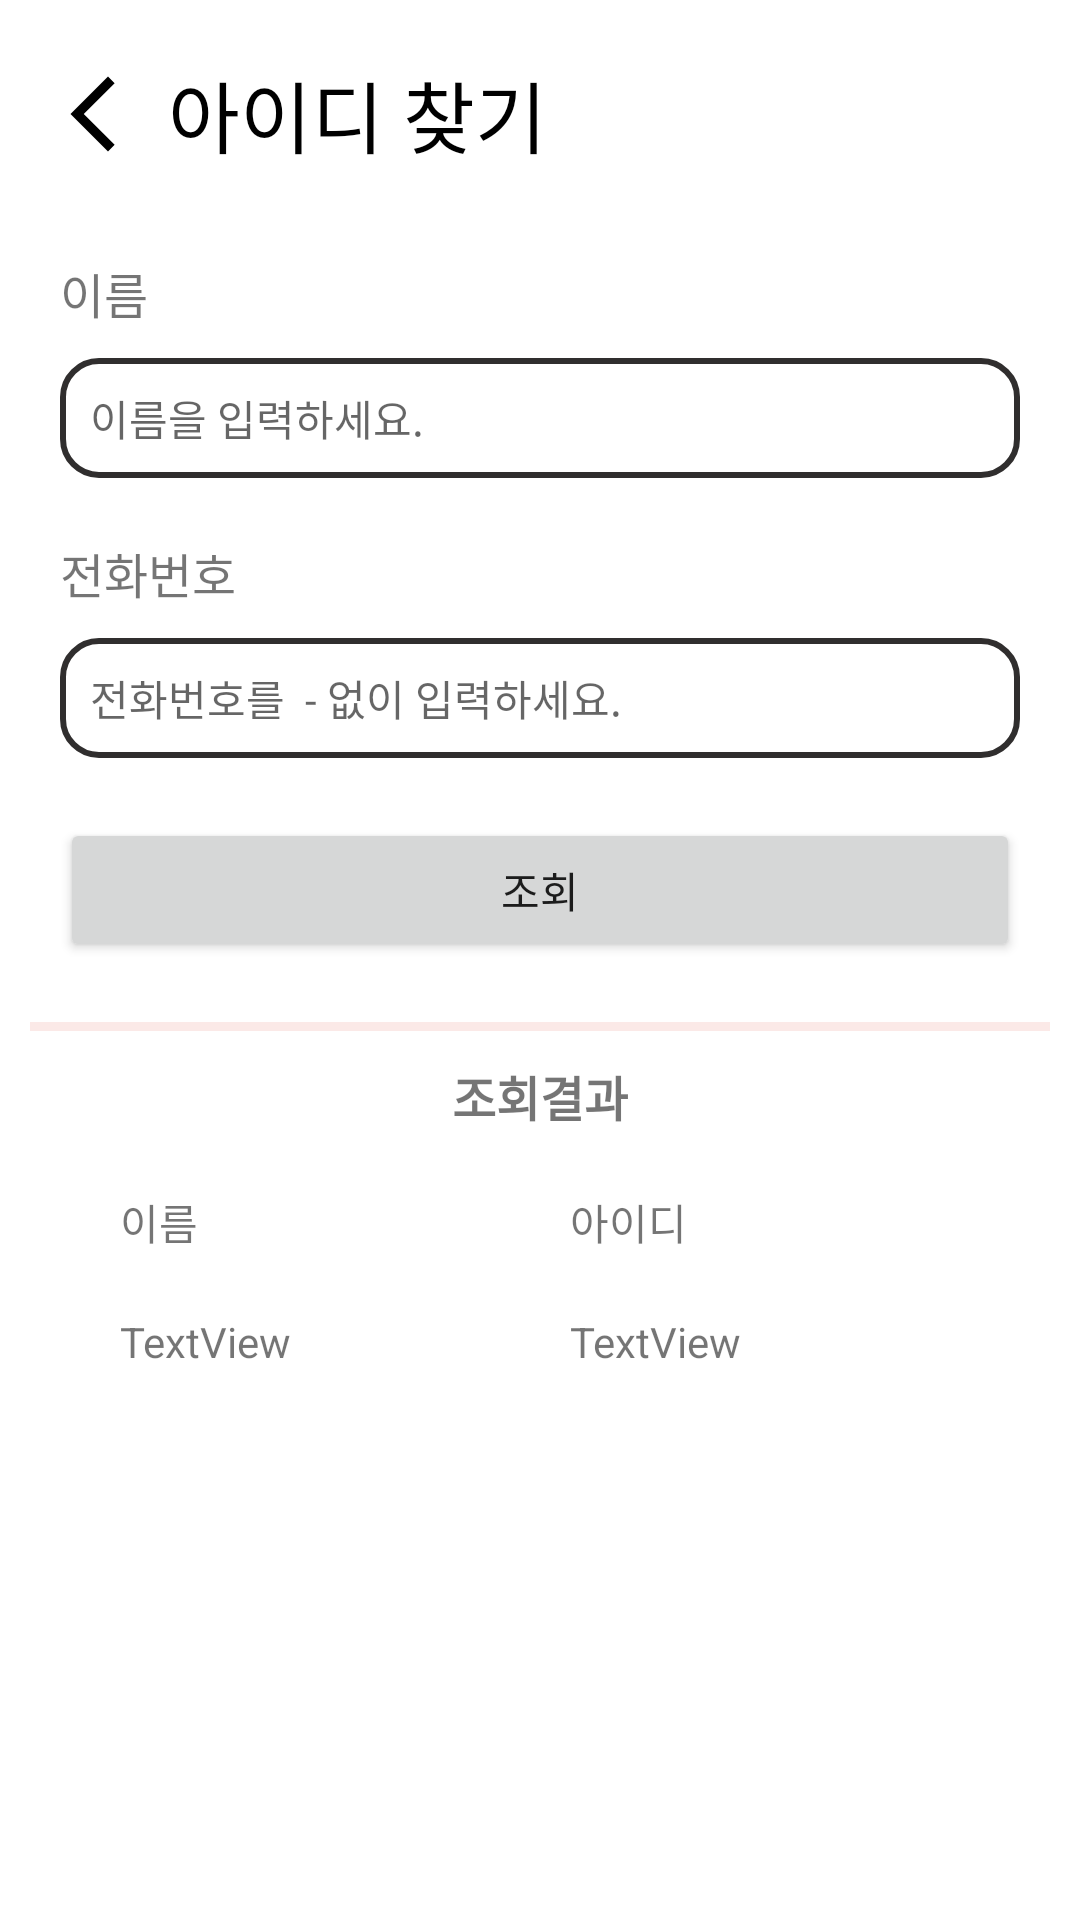

Named icons in this screenshot (1080 x 1920) and their bounding boxes, bbox(x1, y1, x2, y2):
back: bbox(70, 76, 115, 152)
